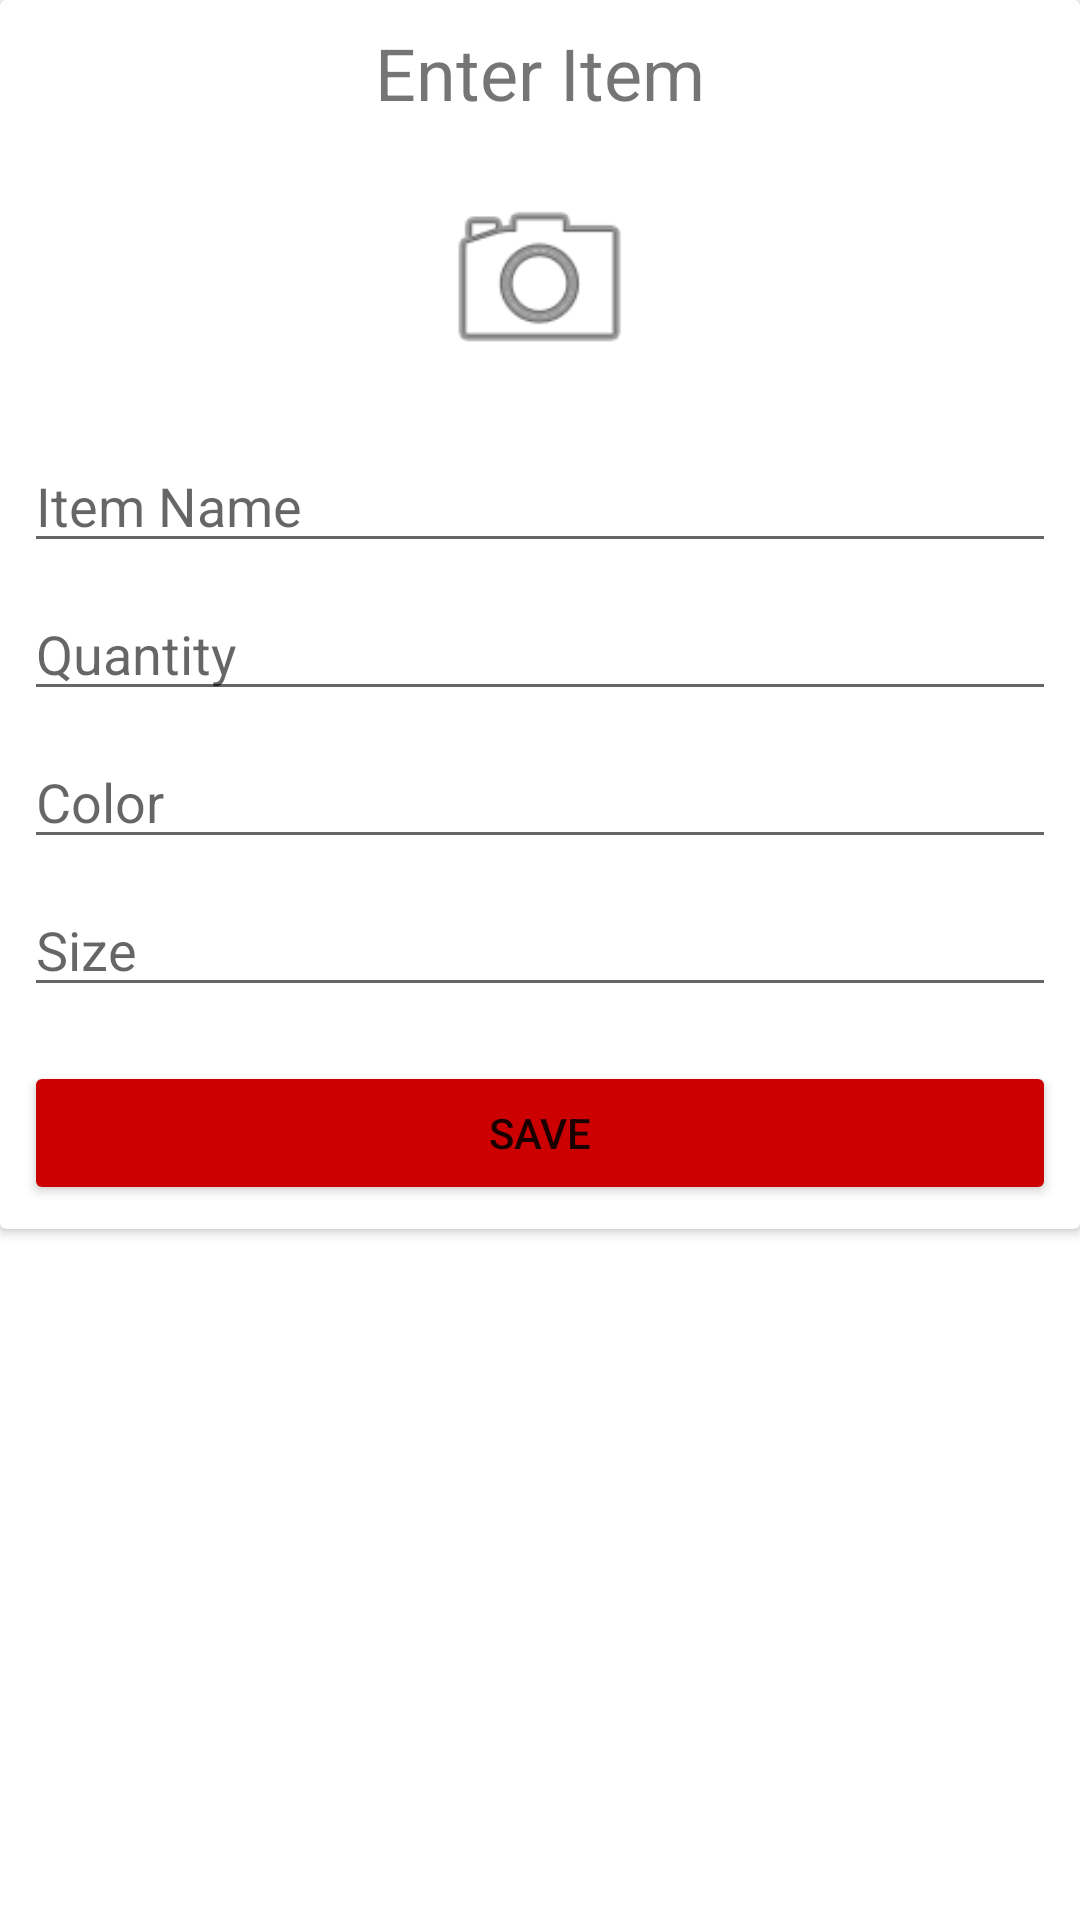

Named icons in this screenshot (1080 × 1920) and their centers, point (x, y):
camera: point (539, 277)
